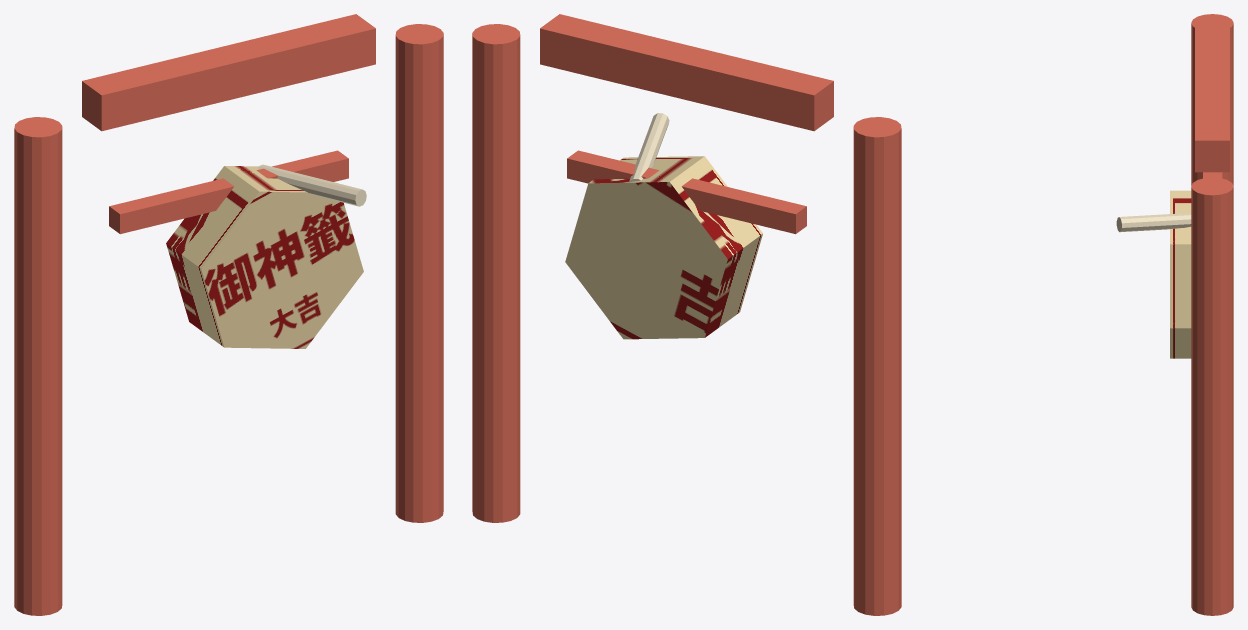
The model's file is omikuji_6tou_3d.glb.
3 renders of one model, left to right at view 1: azimuth 30°, elevation 25°; view 2: azimuth 150°, elevation 25°; view 3: azimuth 270°, elevation 25°, orthographic. The views are drawn at different scales.
Parts seen in each view (by area): view 1: omikuji_box, torii_pillar_0.5, torii_pillar_-0.5, torii_kasagi, torii_nuki, omikuji_stick; view 2: omikuji_box, torii_pillar_0.5, torii_pillar_-0.5, torii_kasagi, torii_nuki, omikuji_stick; view 3: torii_pillar_0.5, torii_kasagi, omikuji_box, torii_pillar_-0.5, omikuji_stick.
Part boxes in pixels (left/top/right/bottom): omikuji_box: left=166, top=166, right=363, bottom=348; torii_pillar_0.5: left=395, top=24, right=443, bottom=522; torii_pillar_-0.5: left=14, top=117, right=62, bottom=615; torii_kasagi: left=82, top=14, right=375, bottom=131; torii_nuki: left=109, top=150, right=348, bottom=234; omikuji_stick: left=258, top=164, right=366, bottom=206; omikuji_box: left=565, top=156, right=762, bottom=339; torii_pillar_0.5: left=472, top=24, right=520, bottom=522; torii_pillar_-0.5: left=853, top=117, right=901, bottom=615; torii_kasagi: left=540, top=14, right=833, bottom=131; torii_nuki: left=567, top=150, right=806, bottom=234; omikuji_stick: left=629, top=113, right=669, bottom=182; torii_pillar_0.5: left=1191, top=177, right=1233, bottom=615; torii_kasagi: left=1195, top=23, right=1229, bottom=172; omikuji_box: left=1170, top=190, right=1191, bottom=358; torii_pillar_-0.5: left=1191, top=14, right=1233, bottom=185; omikuji_stick: left=1116, top=213, right=1191, bottom=232.
Bounding box in the file's own units: 1.11 × 1.27 × 0.785.
4 materials, 2 textured.
